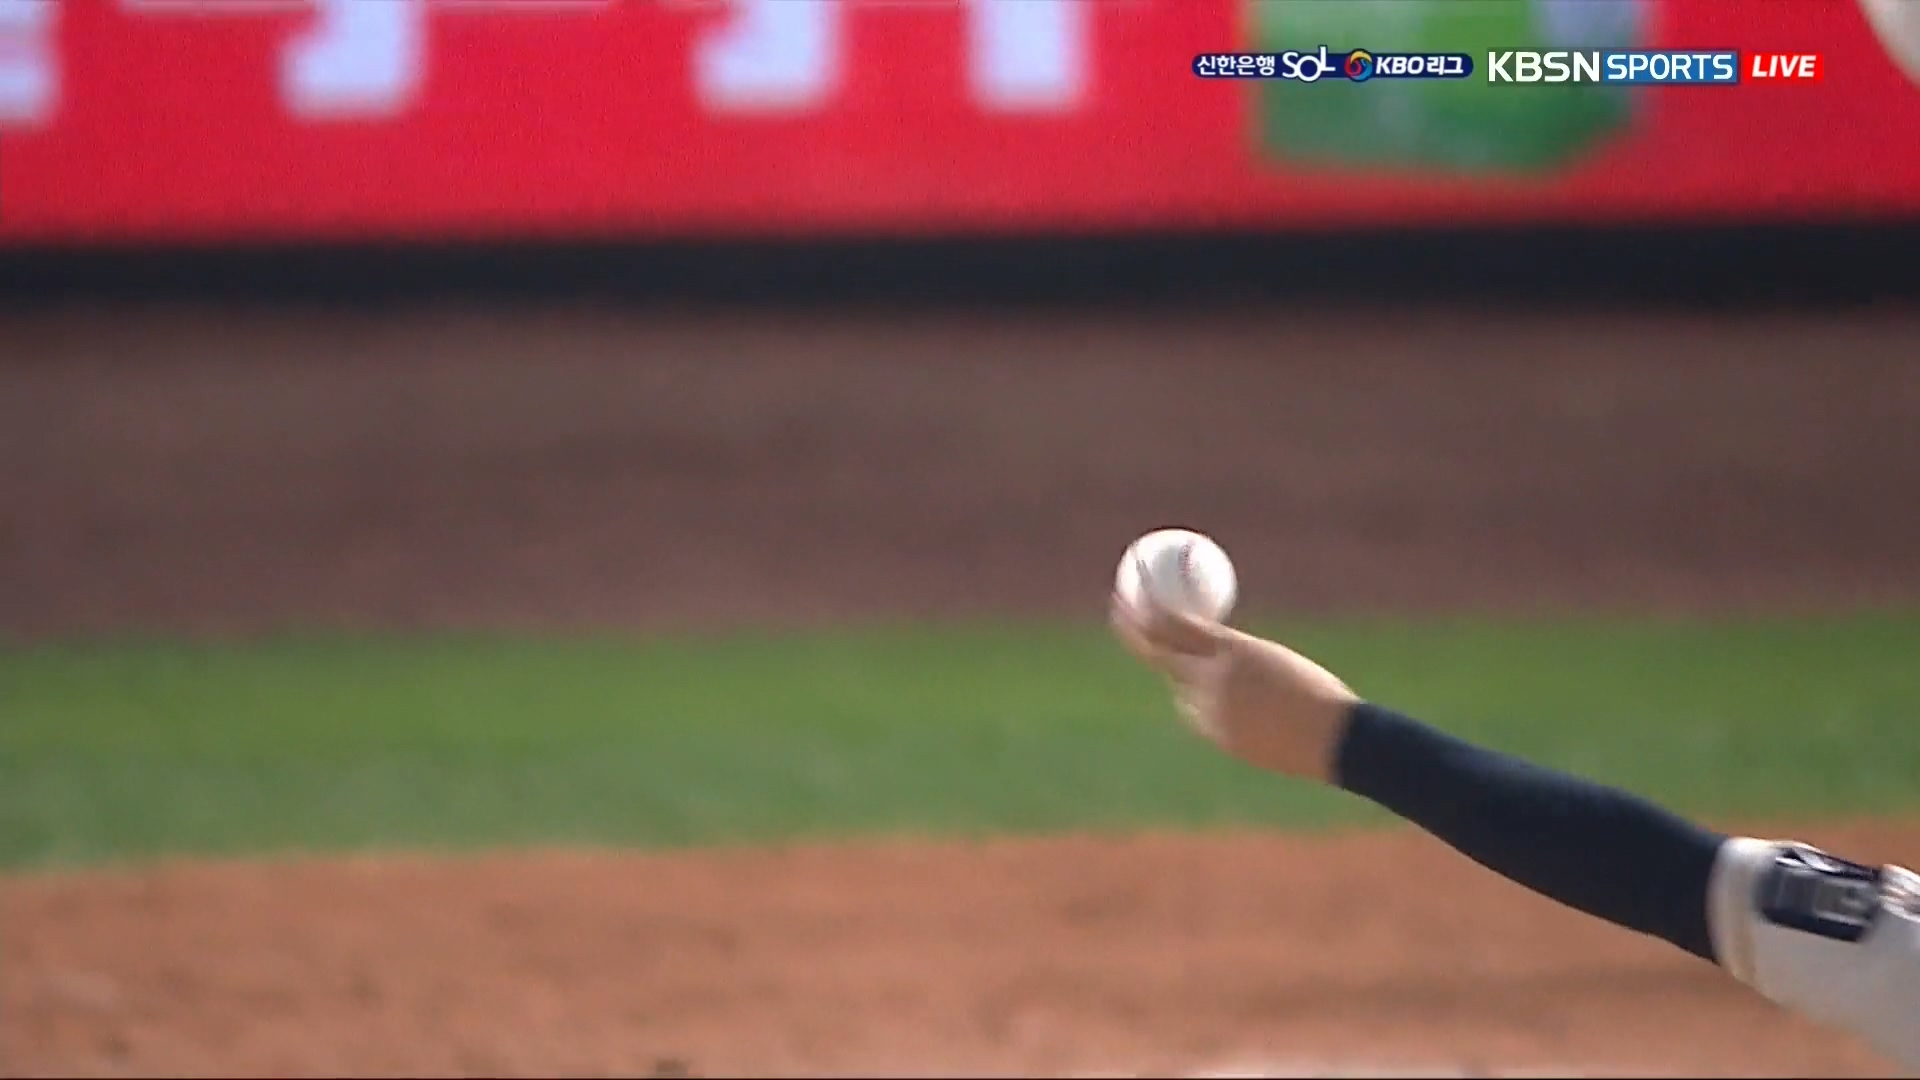zoomin_hand: (1089, 517, 1764, 978)
